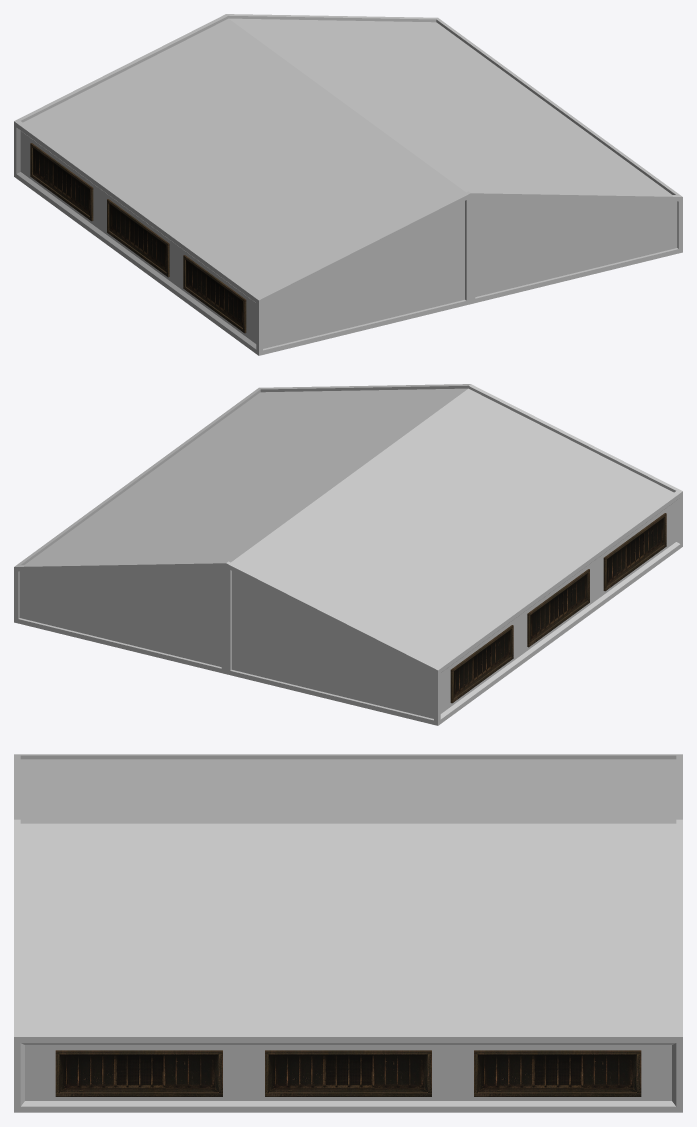
File: roof_mh_4_a_2.fbx
3 views of the same model, one above another, from view 1: azimuth 30°, elevation 25°; view 2: azimuth 150°, elevation 25°; view 3: azimuth 270°, elevation 25° (orthographic). The views are drawn at different scales.
Parts seen in each view (by area): view 1: roof_mh_4_a_2; view 2: roof_mh_4_a_2; view 3: roof_mh_4_a_2.
Part boxes in pixels (box(x1,y1,x2,y2)): roof_mh_4_a_2: box(14, 14, 682, 355); roof_mh_4_a_2: box(14, 384, 682, 725); roof_mh_4_a_2: box(14, 754, 682, 1112).
Size of the model in its own units: 8 by 8 by 2.
